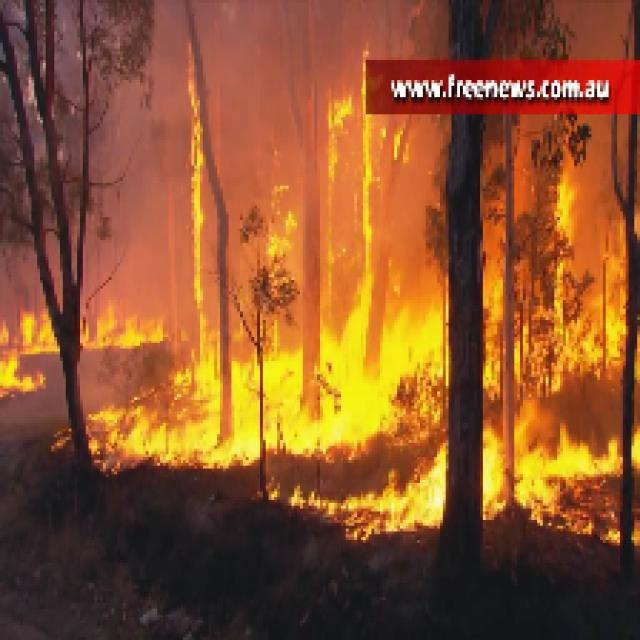Fire: (266, 308, 440, 446), (317, 120, 414, 303), (111, 360, 258, 460), (551, 188, 626, 368), (488, 411, 620, 506), (177, 39, 212, 354)
Smoke: (86, 14, 172, 289), (228, 11, 312, 166)
